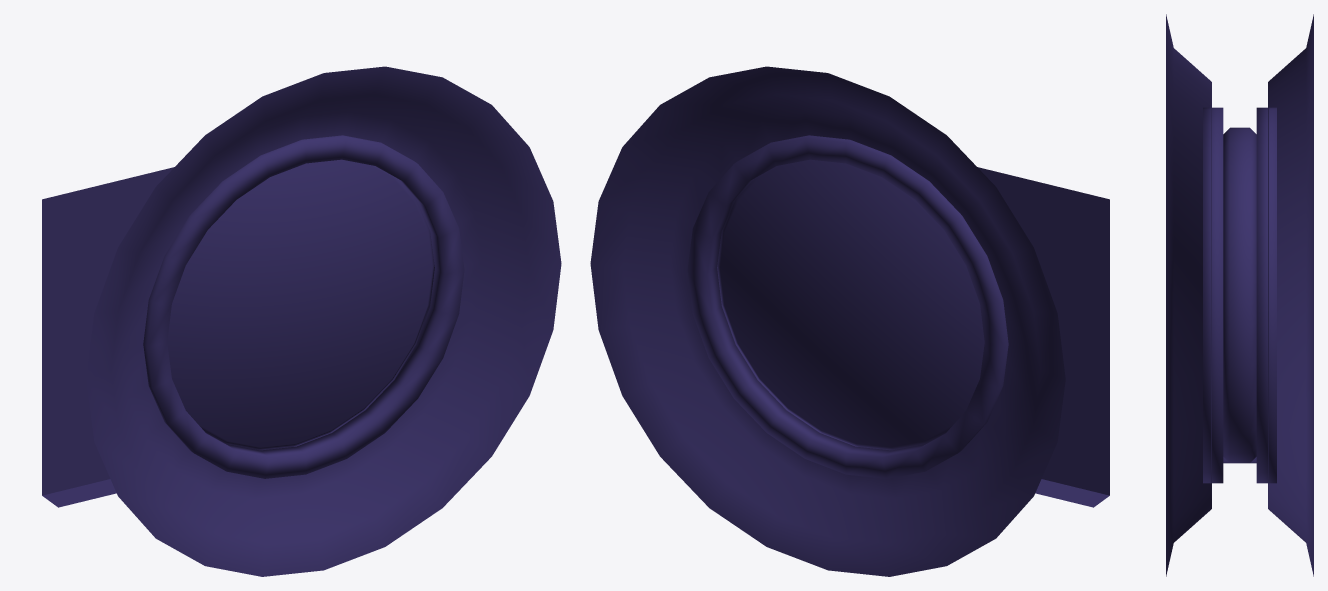
The model's file is HubDoor.FBX.
3 renders of one model, left to right at view 1: azimuth 30°, elevation 25°; view 2: azimuth 150°, elevation 25°; view 3: azimuth 270°, elevation 25°, orthographic. The views are drawn at different scales.
Parts seen in each view (by area): view 1: HubDoor_Cliff, HubDoor_Door, HubDoor; view 2: HubDoor_Cliff, HubDoor_Door, HubDoor; view 3: HubDoor_Cliff, HubDoor, HubDoor_Door.
Boxes of the visible parts, x1=… form: HubDoor_Cliff: x1=42, y1=66, x2=561, y2=576; HubDoor_Door: x1=167, y1=159, x2=434, y2=450; HubDoor: x1=143, y1=135, x2=464, y2=478; HubDoor_Cliff: x1=590, y1=66, x2=1109, y2=576; HubDoor_Door: x1=717, y1=159, x2=984, y2=450; HubDoor: x1=687, y1=135, x2=1008, y2=478; HubDoor_Cliff: x1=1166, y1=14, x2=1313, y2=576; HubDoor: x1=1203, y1=107, x2=1276, y2=483; HubDoor_Door: x1=1223, y1=127, x2=1256, y2=463.
Size of the model in its own units: 8.4 by 8.39 by 2.19.
